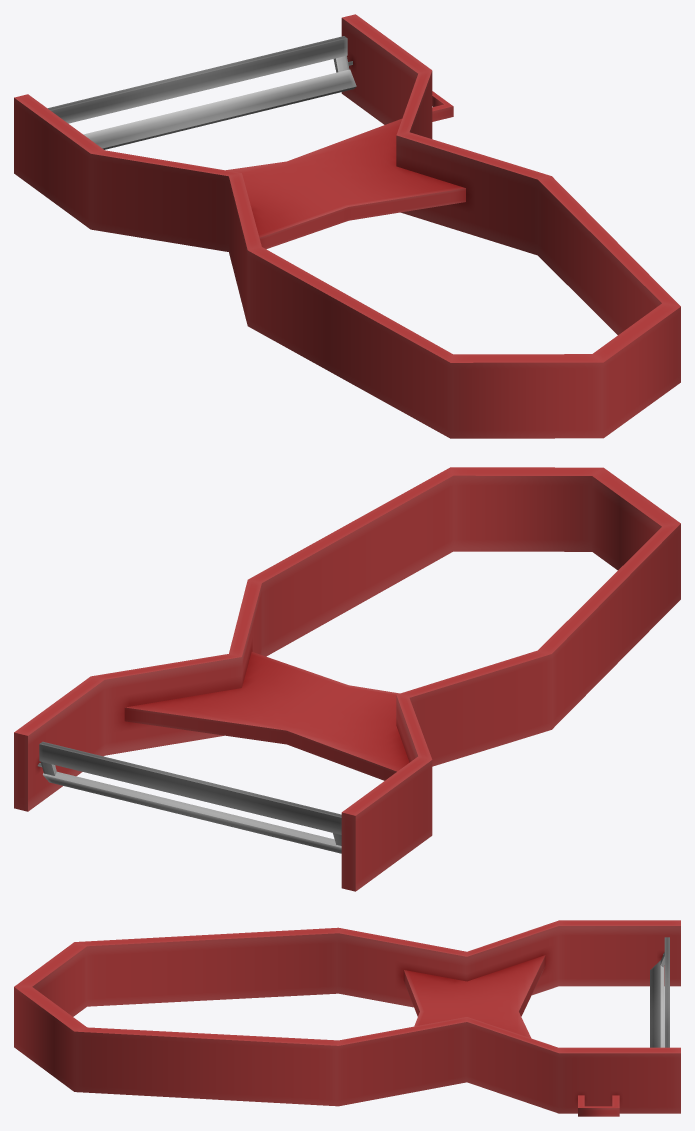
The model's file is KR_Peeler_01_01.fbx.
The picture shows the model from 3 angles, top to bottom: view 1: azimuth 30°, elevation 25°; view 2: azimuth 150°, elevation 25°; view 3: azimuth 270°, elevation 25°; orthographic projection. The views are drawn at different scales.
Parts seen in each view (by area): view 1: peeler_01, blade_01; view 2: peeler_01, blade_01; view 3: peeler_01, blade_01.
Boxes of the visible parts, box(x1,y1,x2,y2) form: peeler_01: box(14, 14, 680, 438); blade_01: box(48, 36, 356, 149); peeler_01: box(14, 467, 680, 891); blade_01: box(37, 741, 341, 853); peeler_01: box(14, 920, 680, 1116); blade_01: box(650, 937, 669, 1047).
Bounding box in the file's own units: 5.03 × 0.9723 × 9.73.
